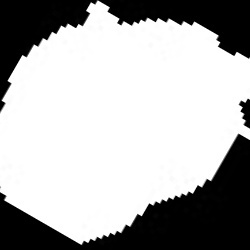spot: (1, 3, 249, 245)
